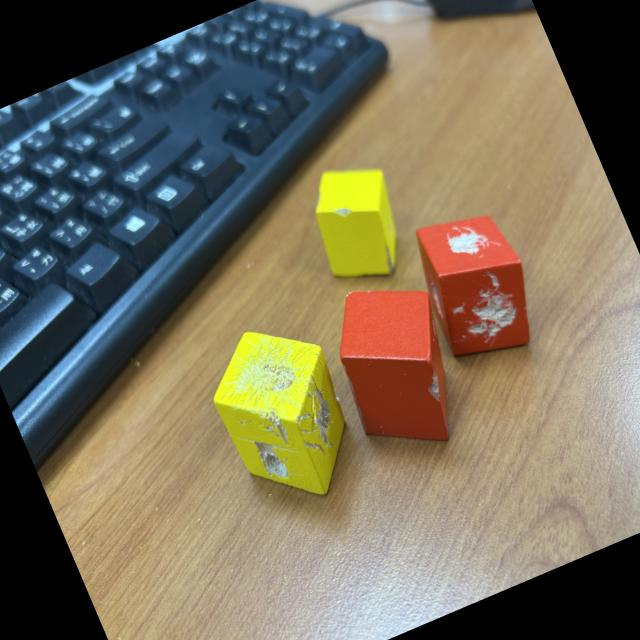broken: (192, 306, 374, 522), (310, 262, 484, 468), (399, 195, 552, 373), (292, 150, 422, 298)
